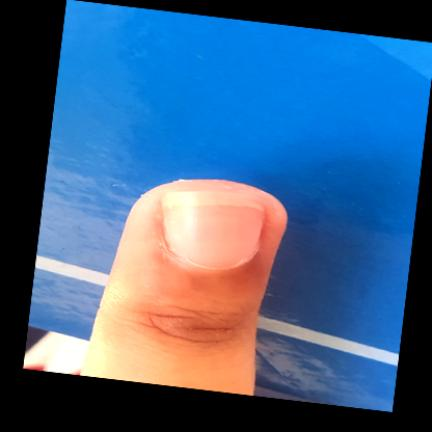Nail: (162, 191, 266, 270)
